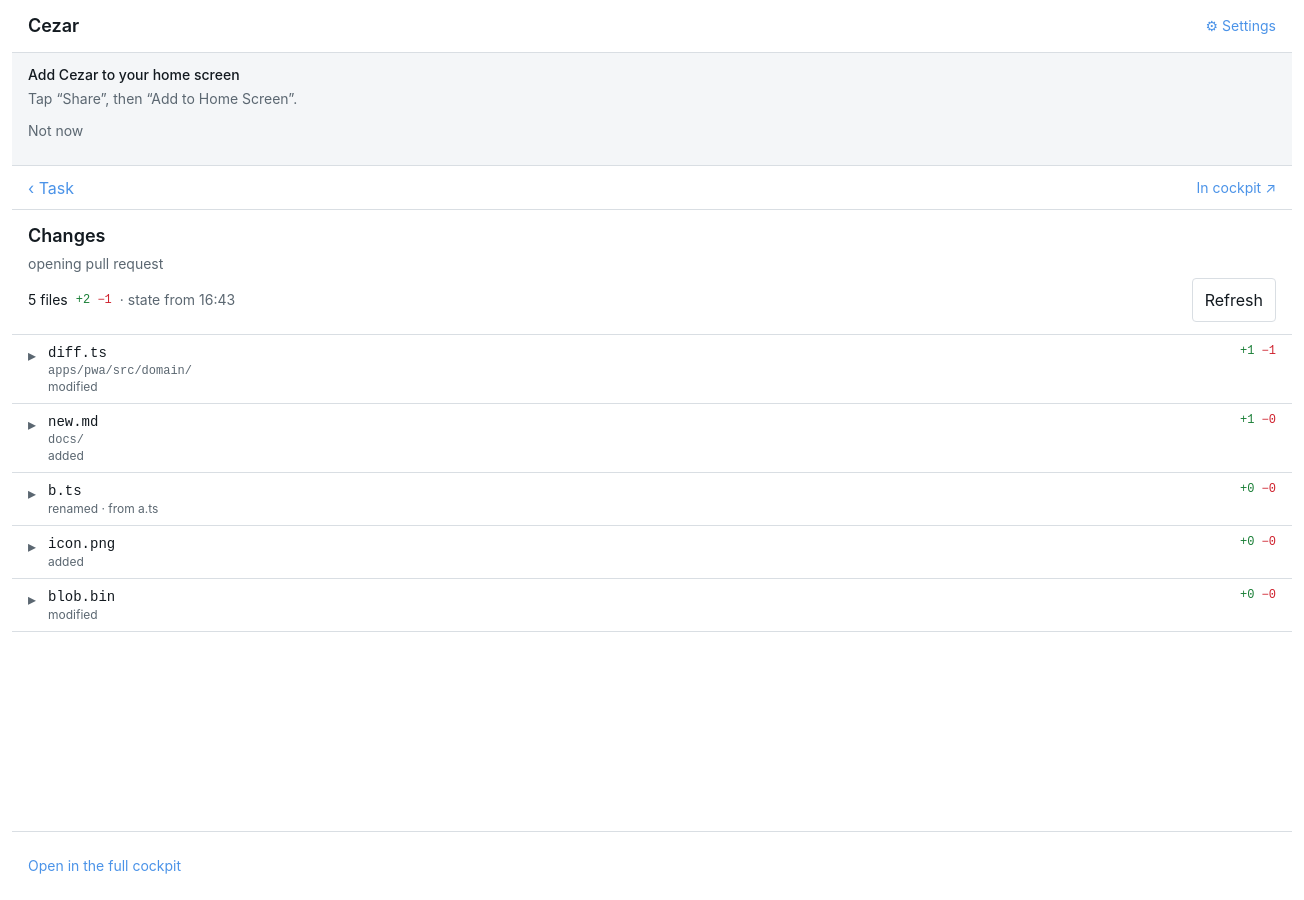
it: DiffScreen — file by file › opens a file to its patch: hunk header, markers, line numbers, no file header lines
This screenshot has width=1304, height=900.
Click the button "▸ diff.ts apps/pwa/src/domain/ modified +1 −1".
click(77, 353)  # box [12,335,1292,403]
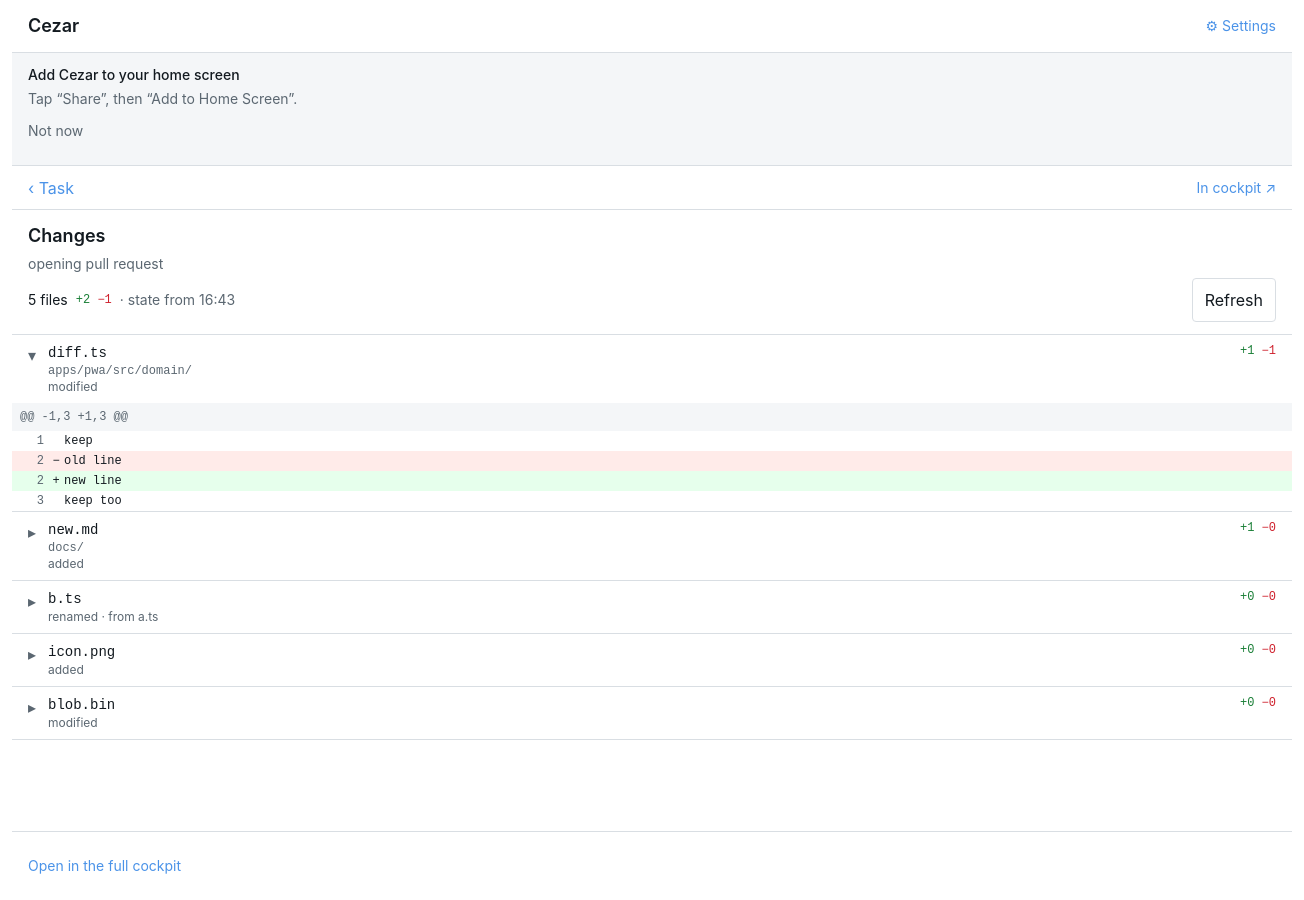
Check: the button "▾ diff.ts apps/pwa/src/domain/ modified +1 −1" is expanded
Check: the text "@@ -1,3 +1,3 @@" is shown, box [12,403,1292,431]
Click the button "▾ diff.ts apps/pwa/src/domain/ modified +1 −1".
click(77, 353)  # box [12,335,1292,403]
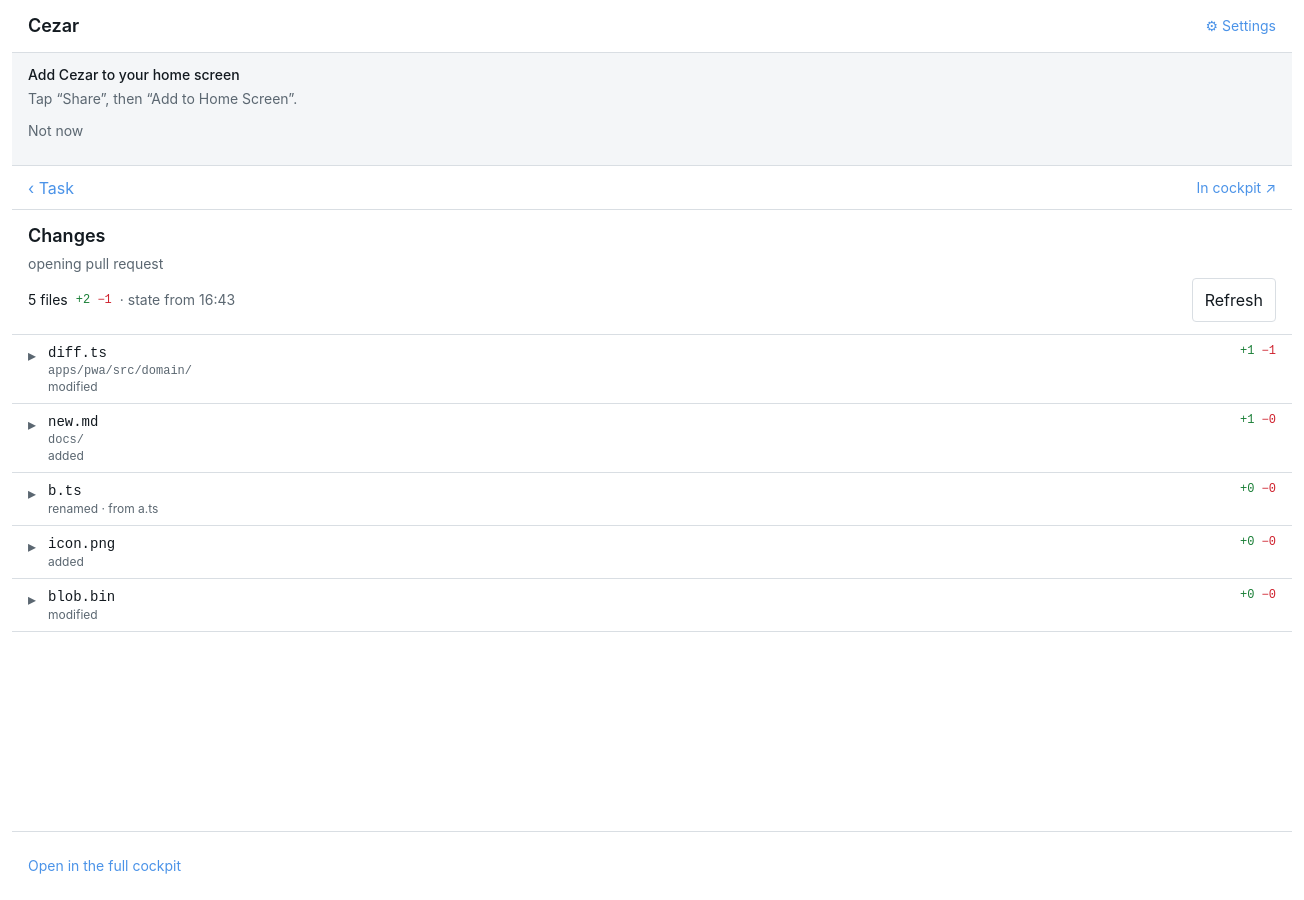
Check: the text "new line" is gone
